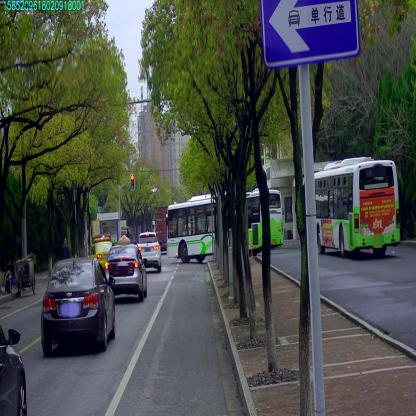traffic-light: (131, 174, 134, 190)
